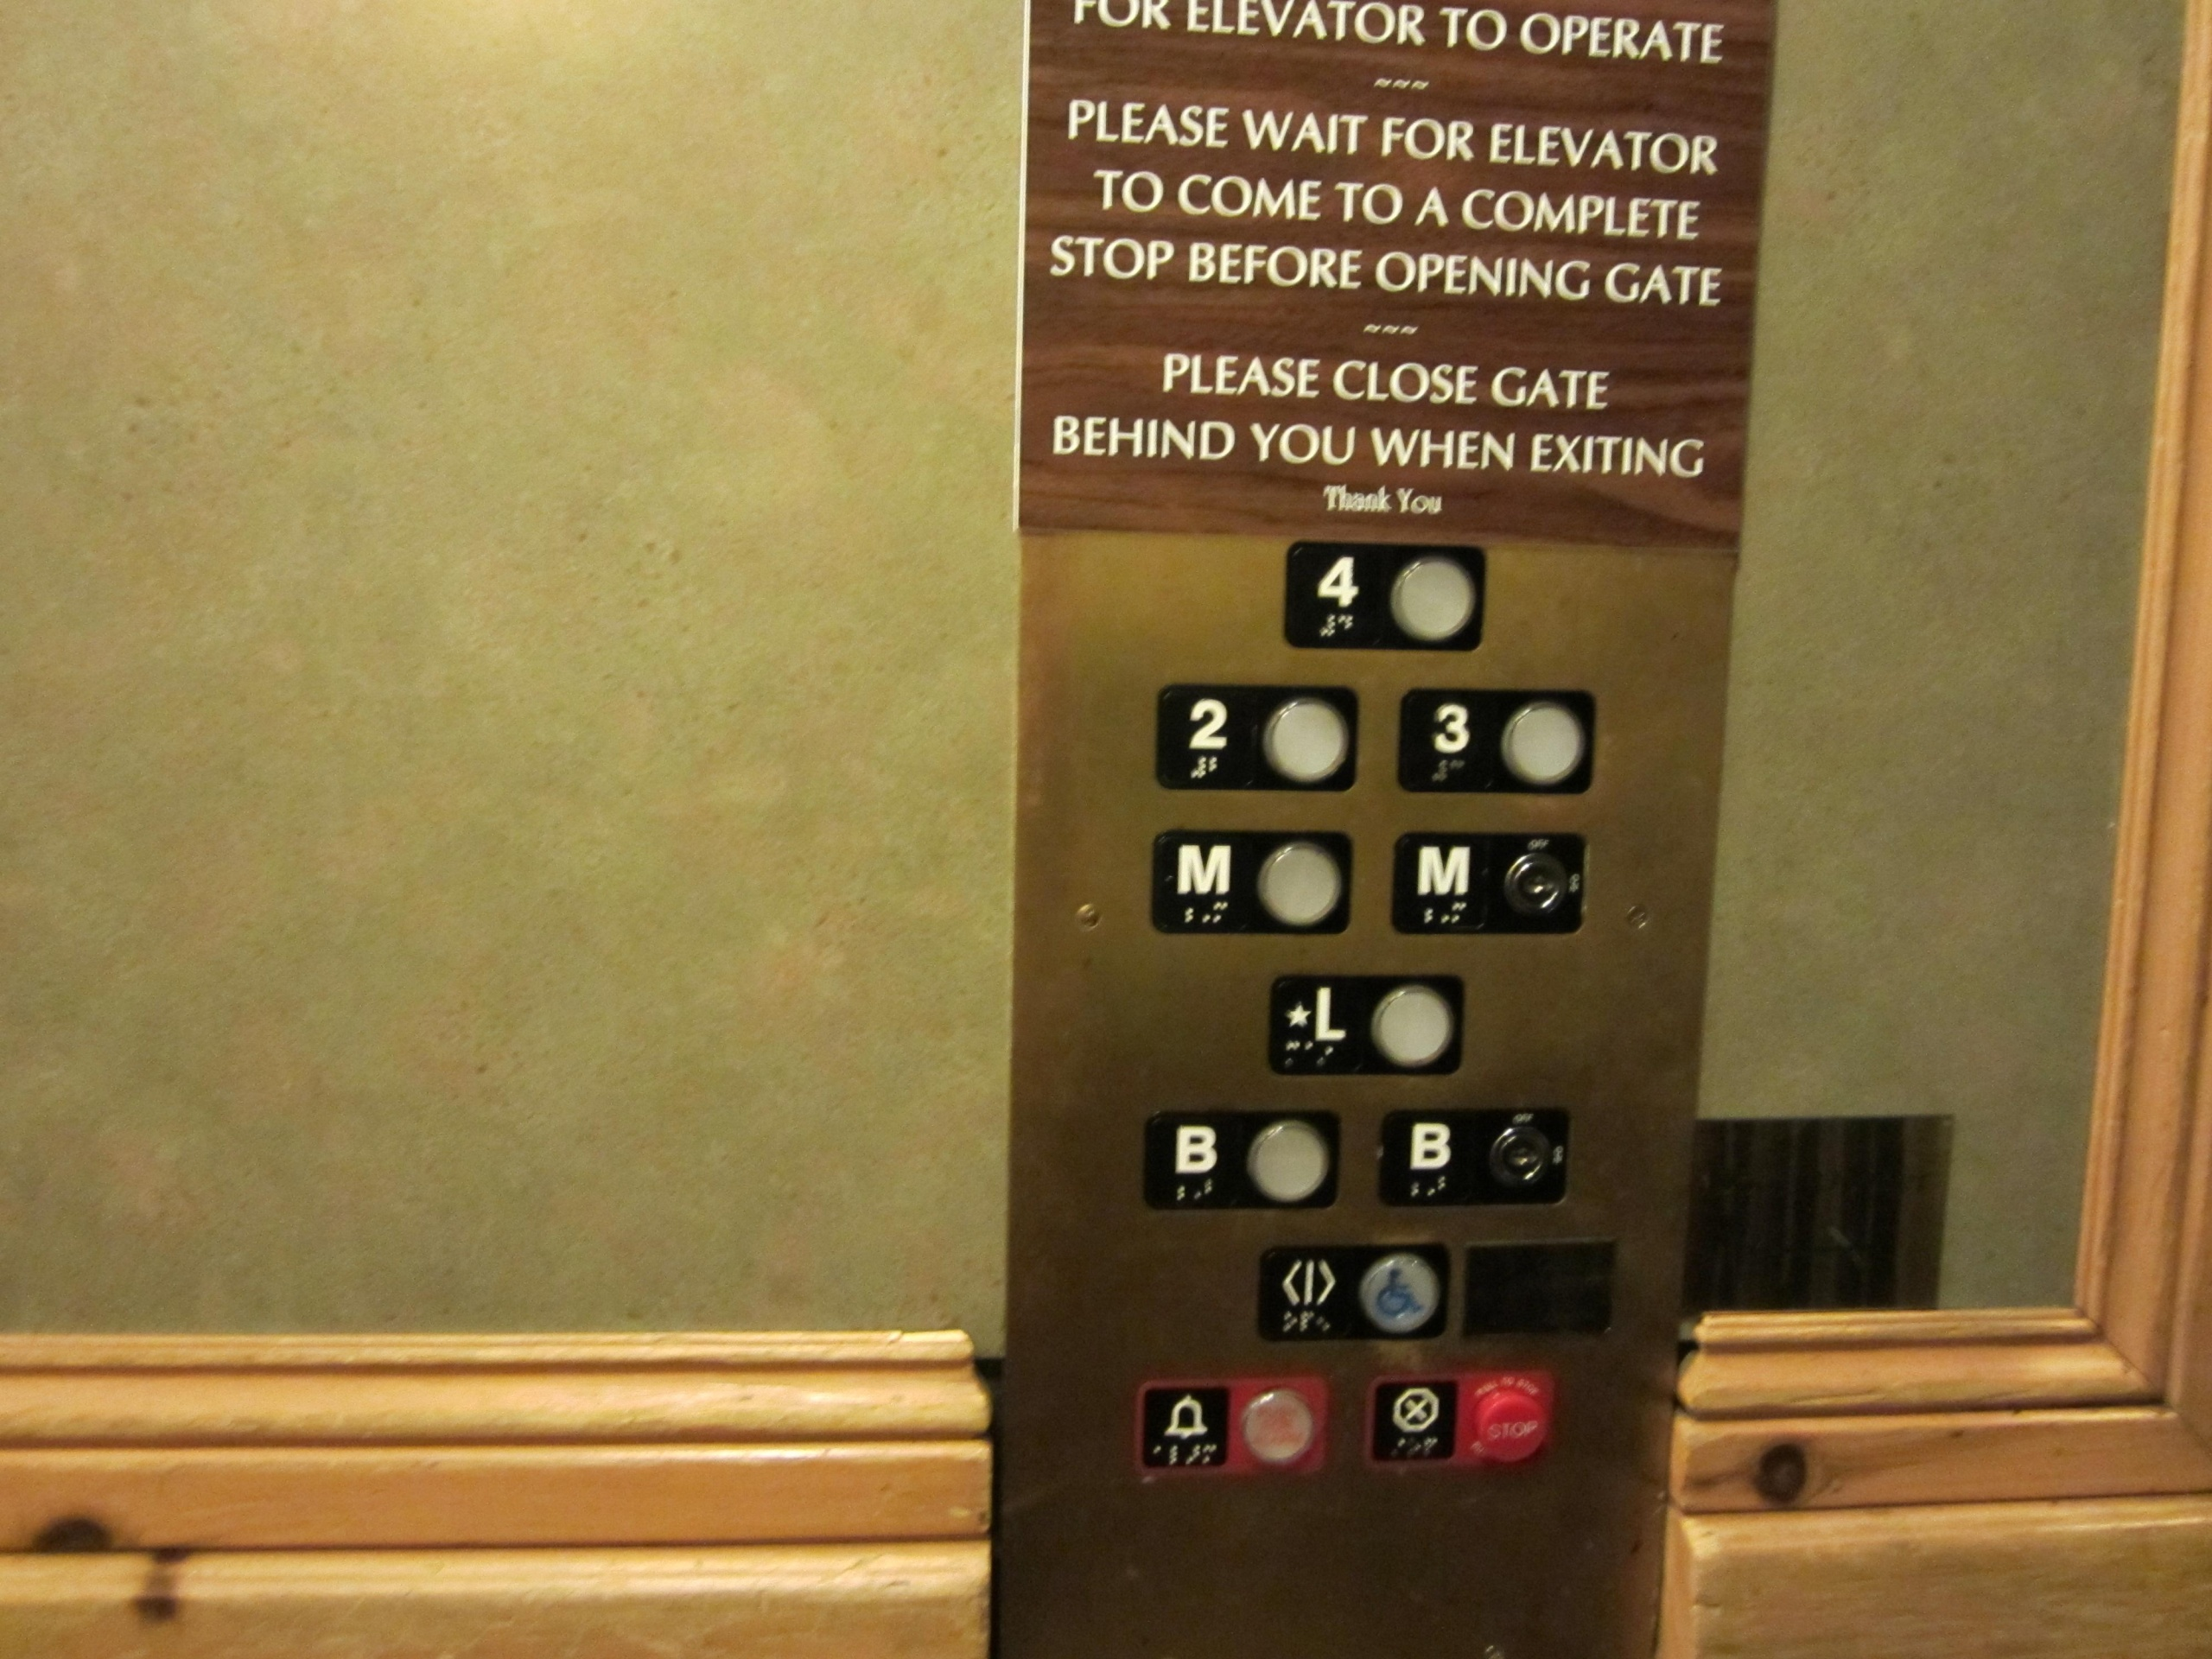2: (1151, 681, 1364, 796)
3: (1392, 683, 1602, 800)
4: (1280, 537, 1491, 659)
B: (1143, 1107, 1341, 1216), (1374, 1103, 1575, 1211)
L: (1263, 971, 1470, 1079)
M: (1150, 824, 1355, 939), (1386, 826, 1592, 939)
alarm: (1139, 1382, 1233, 1469)
blur: (1235, 1384, 1322, 1469)
open: (1254, 1241, 1453, 1349)
stop: (1367, 1377, 1460, 1462)
text_stop: (1468, 1377, 1554, 1466)
